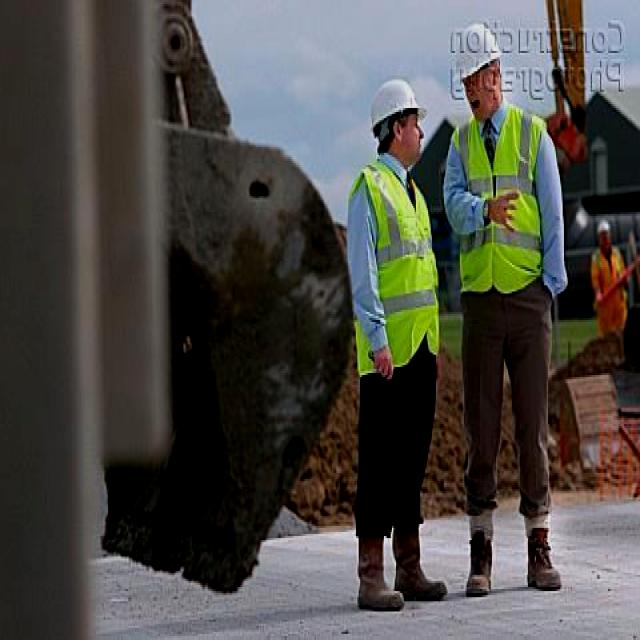face_nomask: (464, 65, 501, 120), (399, 116, 425, 157)
hand_noglove: (487, 188, 516, 232), (372, 344, 397, 388)
head_helmet: (364, 74, 425, 126), (457, 22, 500, 82), (597, 220, 611, 235)
person: (448, 29, 561, 597), (359, 74, 437, 602), (585, 214, 631, 373)
shoes: (388, 521, 451, 602), (352, 528, 407, 615), (520, 522, 568, 593), (461, 527, 496, 600)
vest: (353, 167, 438, 369), (459, 116, 544, 283), (593, 244, 624, 306)
